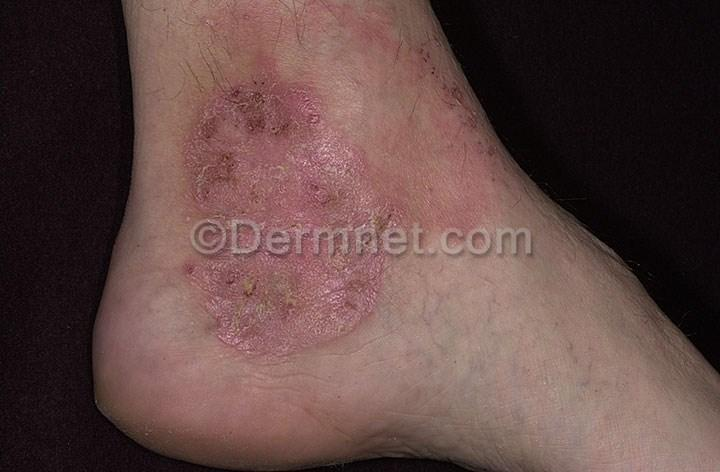Eczema: (162, 67, 388, 216), (172, 254, 414, 372), (460, 131, 517, 188), (435, 80, 485, 122), (398, 33, 448, 74)
